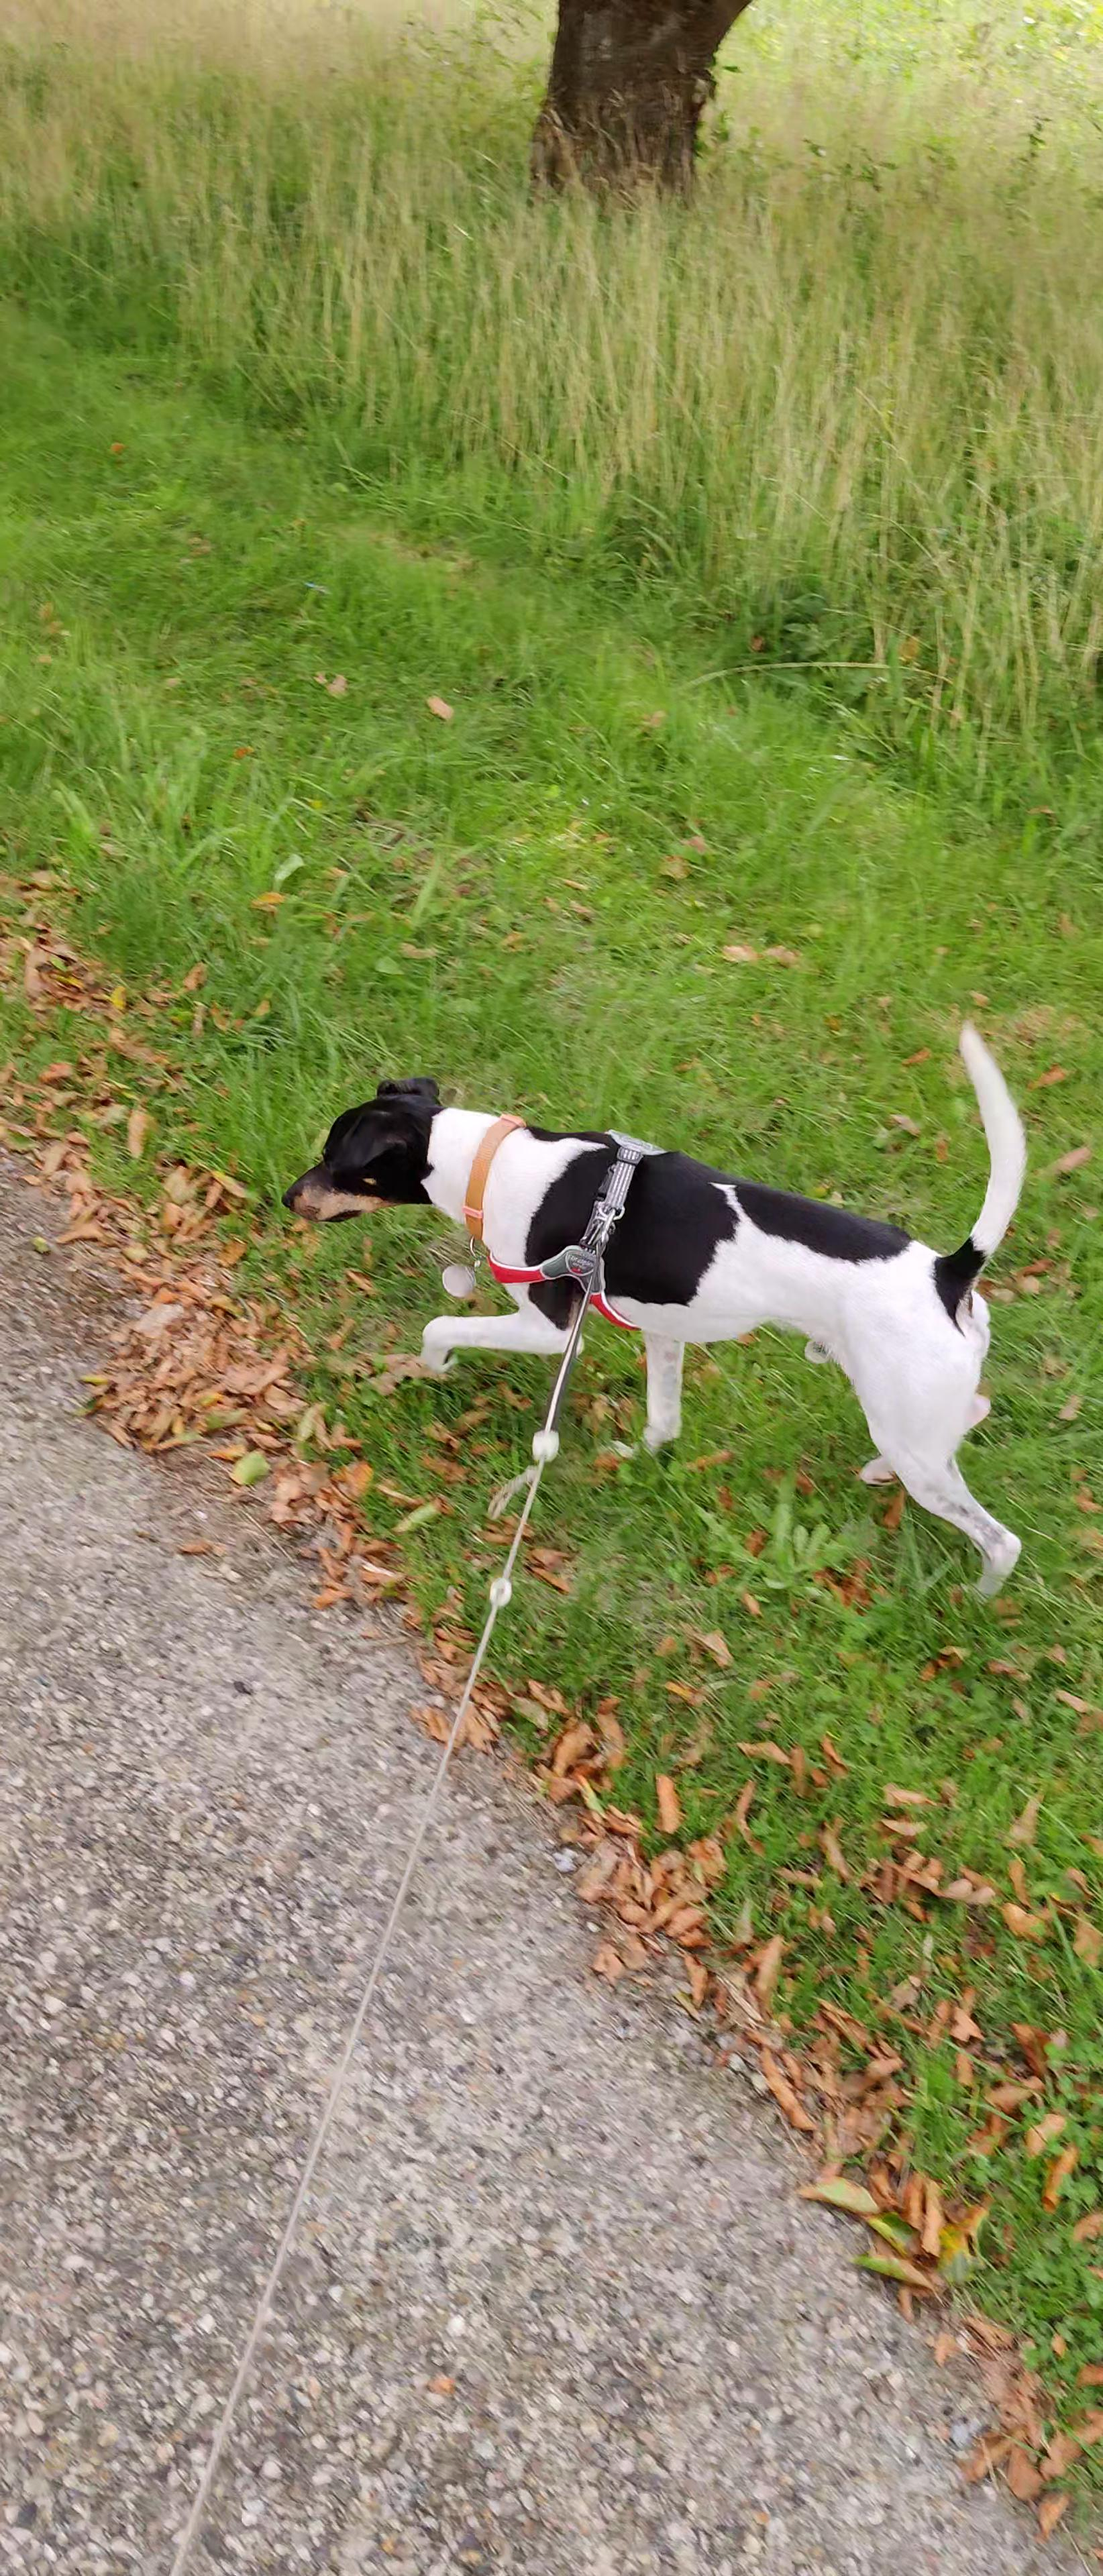Dog: (252, 992, 1049, 1625)
